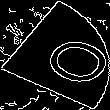O_NW: (10, 23, 100, 87)
